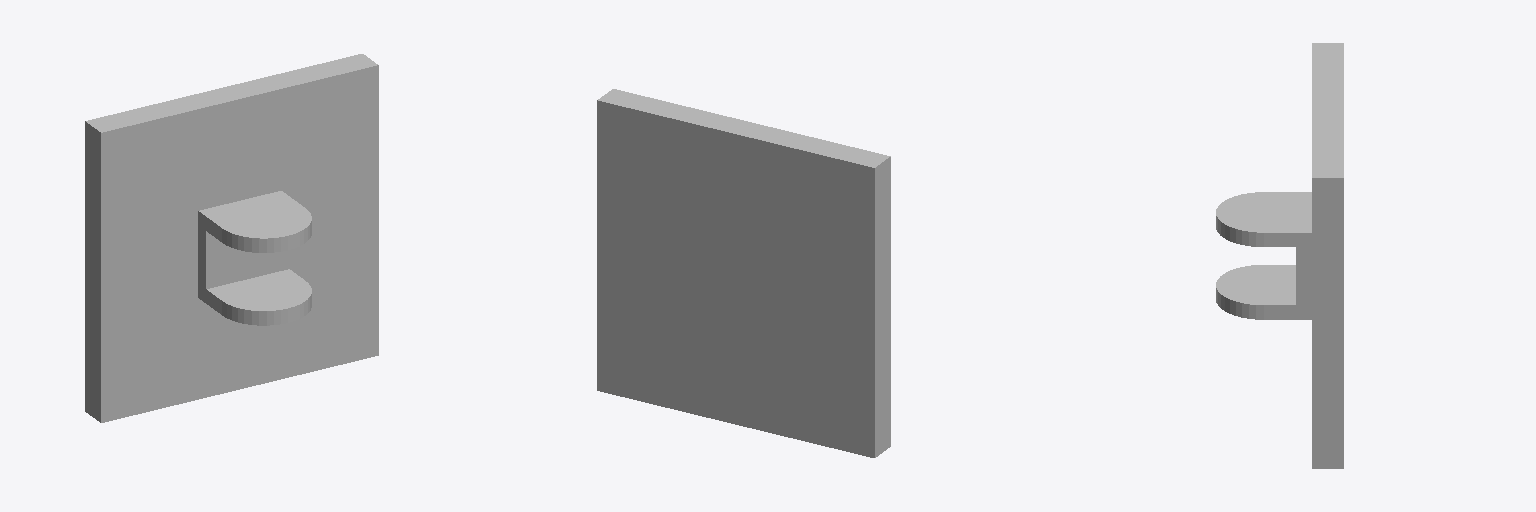
File: flangedBase.obj
3 renders of one model, left to right at view 1: azimuth 30°, elevation 25°; view 2: azimuth 150°, elevation 25°; view 3: azimuth 270°, elevation 25°, orthographic.
Bounding box in the file's own units: 1 × 1 × 0.3999.